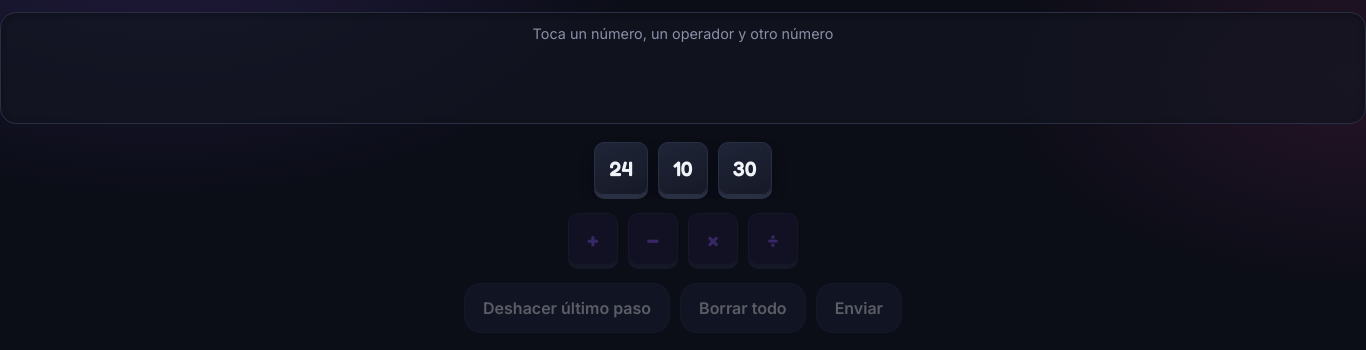
NumberBoard › calcula y apila un paso al tocar número, operador y número
Click the button "24" at (621, 169), box [594, 142, 648, 195]
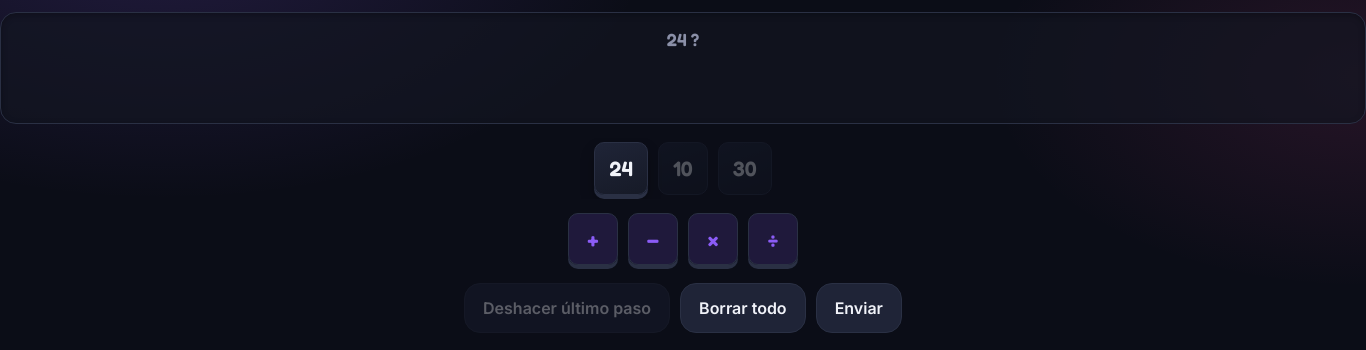
Click the button "×" at (713, 239), box [688, 213, 738, 265]
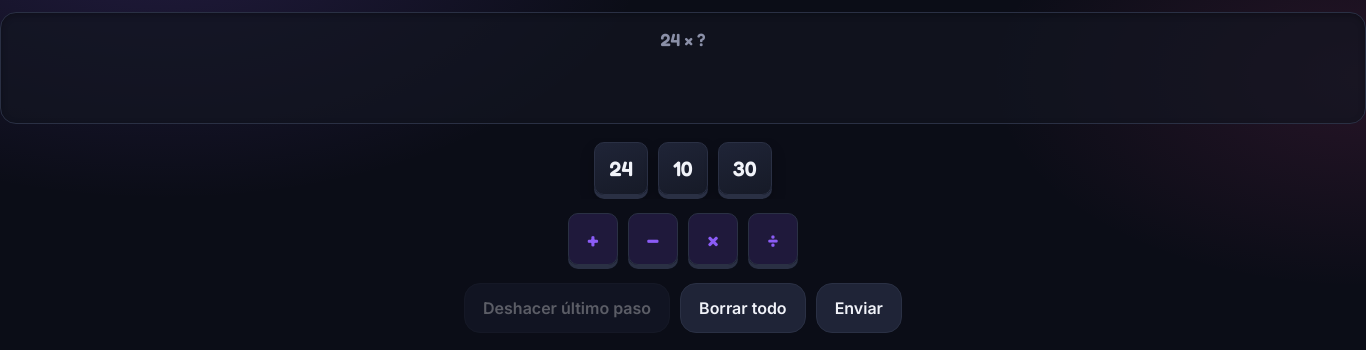
Click the button "10" at (683, 169), box [658, 142, 708, 195]
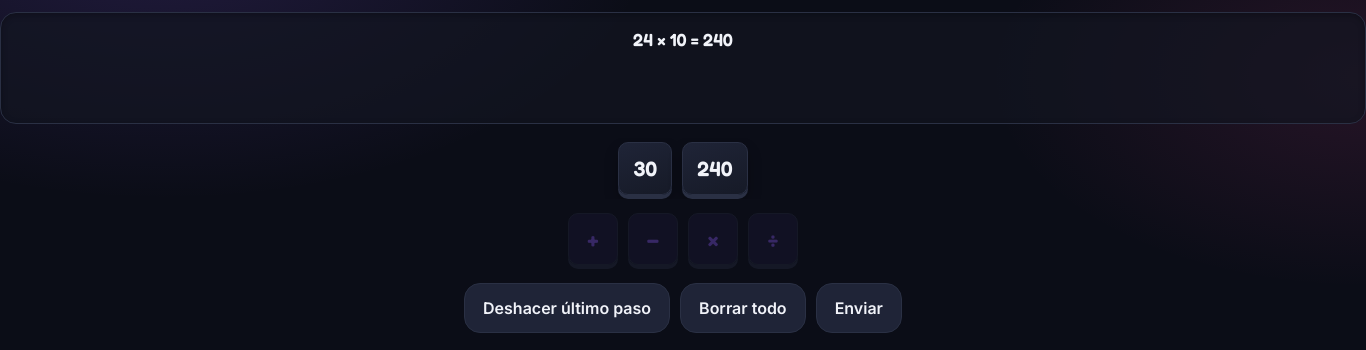
Expected: the element named "Tus operaciones" reads "24 × 10 = 240", [0, 12, 1365, 124]
